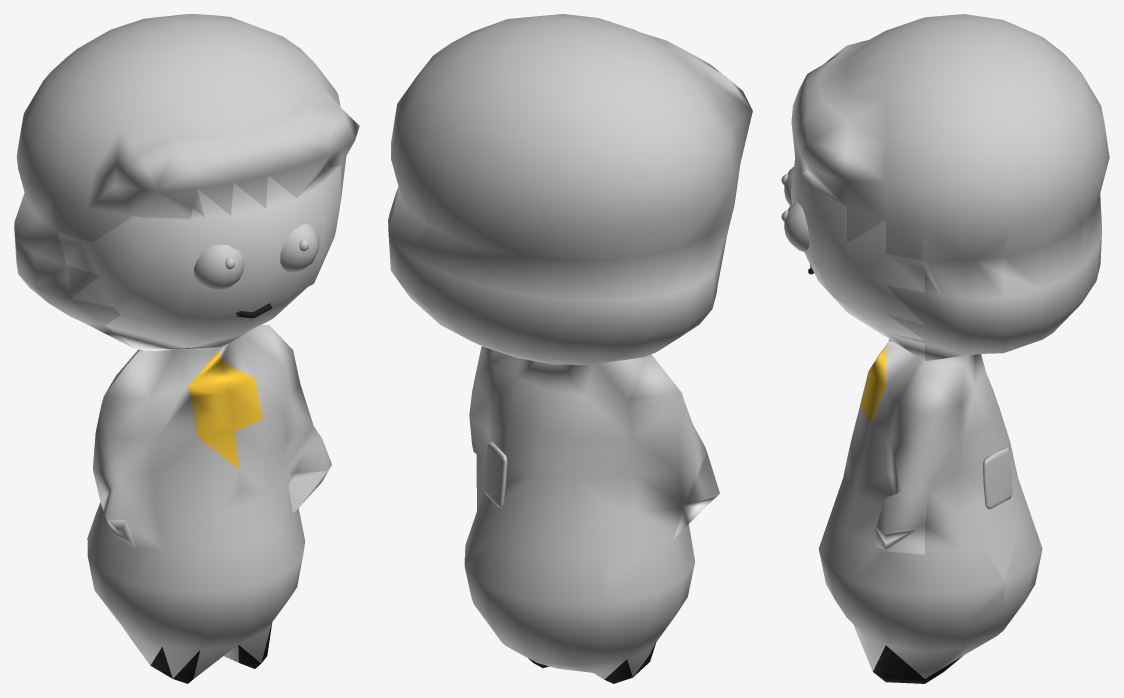
Rendered from idol_girl_c_lod.fbx.
3 renders of one model, left to right at view 1: azimuth 30°, elevation 25°; view 2: azimuth 150°, elevation 25°; view 3: azimuth 270°, elevation 25°, orthographic. The views are drawn at different scales.
Parts seen in each view (by area): view 1: idol_girl_c_lod; view 2: idol_girl_c_lod; view 3: idol_girl_c_lod.
Part boxes in pixels (x1,y1,x2,y2): idol_girl_c_lod: (14,14,359,683); idol_girl_c_lod: (388,14,752,683); idol_girl_c_lod: (781,14,1109,683).
Bounding box in the file's own units: 0.619 × 1.24 × 0.5863.
